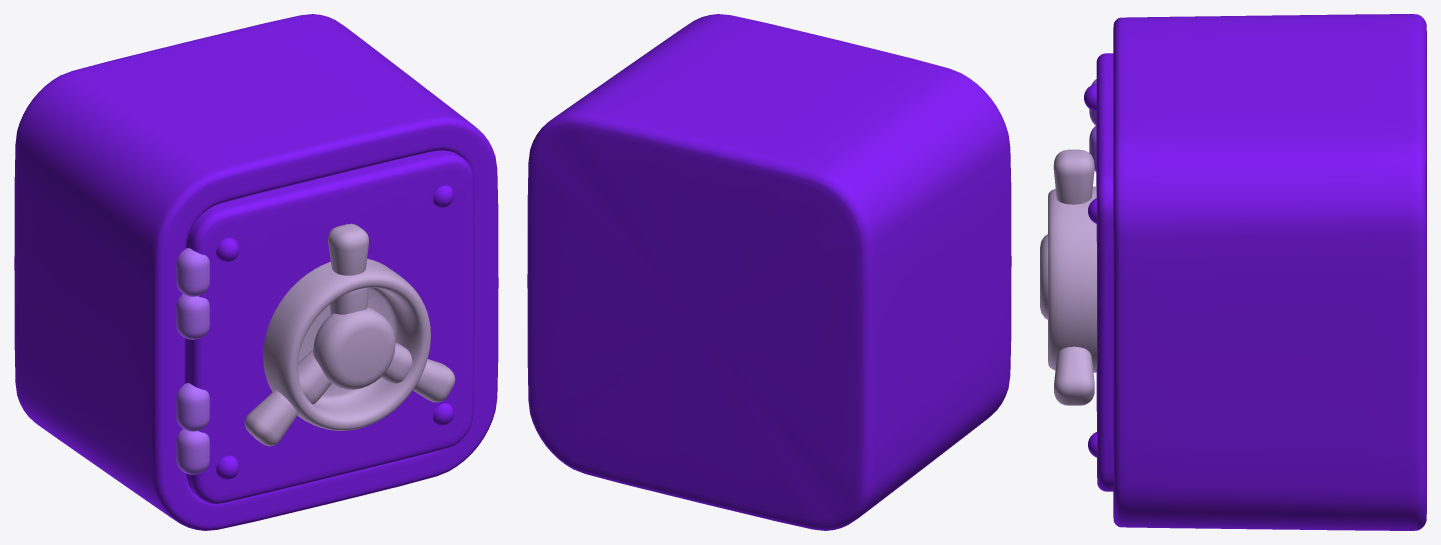
The model's file is safe-secured-banking-animated-3d-icon-131448559731.glb.
The picture shows the model from 3 angles, left to right: view 1: azimuth 30°, elevation 25°; view 2: azimuth 150°, elevation 25°; view 3: azimuth 270°, elevation 25°; orthographic projection. The views are drawn at different scales.
Visible parts, largest first — view 1: Safe, Door.003, Knob.001, Hinge.001, Points; view 2: Safe; view 3: Safe, Knob.001, Door.003, Points.
Boxes of the visible parts, <box> form: Safe: <box>14,14,498,530</box>; Door.003: <box>185,150,473,504</box>; Knob.001: <box>244,223,455,446</box>; Hinge.001: <box>176,248,209,474</box>; Points: <box>216,185,453,479</box>; Safe: <box>527,14,1011,530</box>; Safe: <box>1113,14,1426,530</box>; Knob.001: <box>1040,149,1096,405</box>; Door.003: <box>1096,53,1113,491</box>; Points: <box>1084,84,1096,457</box>.
Size of the model in its own units: 1.8 by 1.8 by 1.62.
